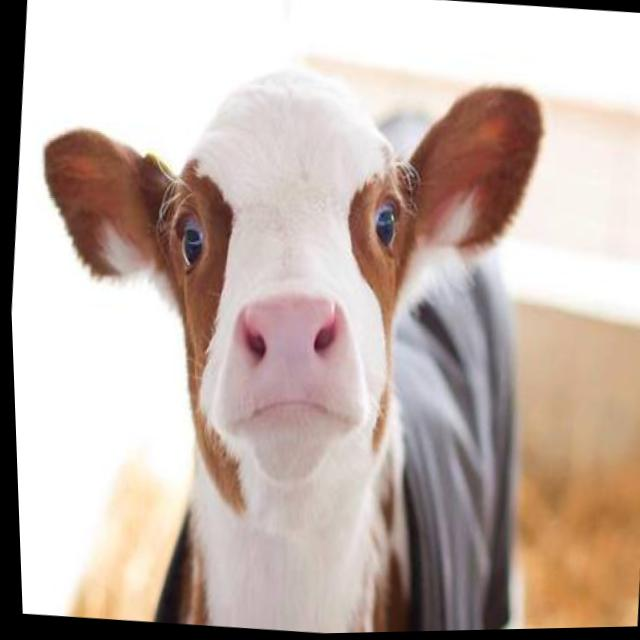cowFace: (1, 41, 560, 573)
